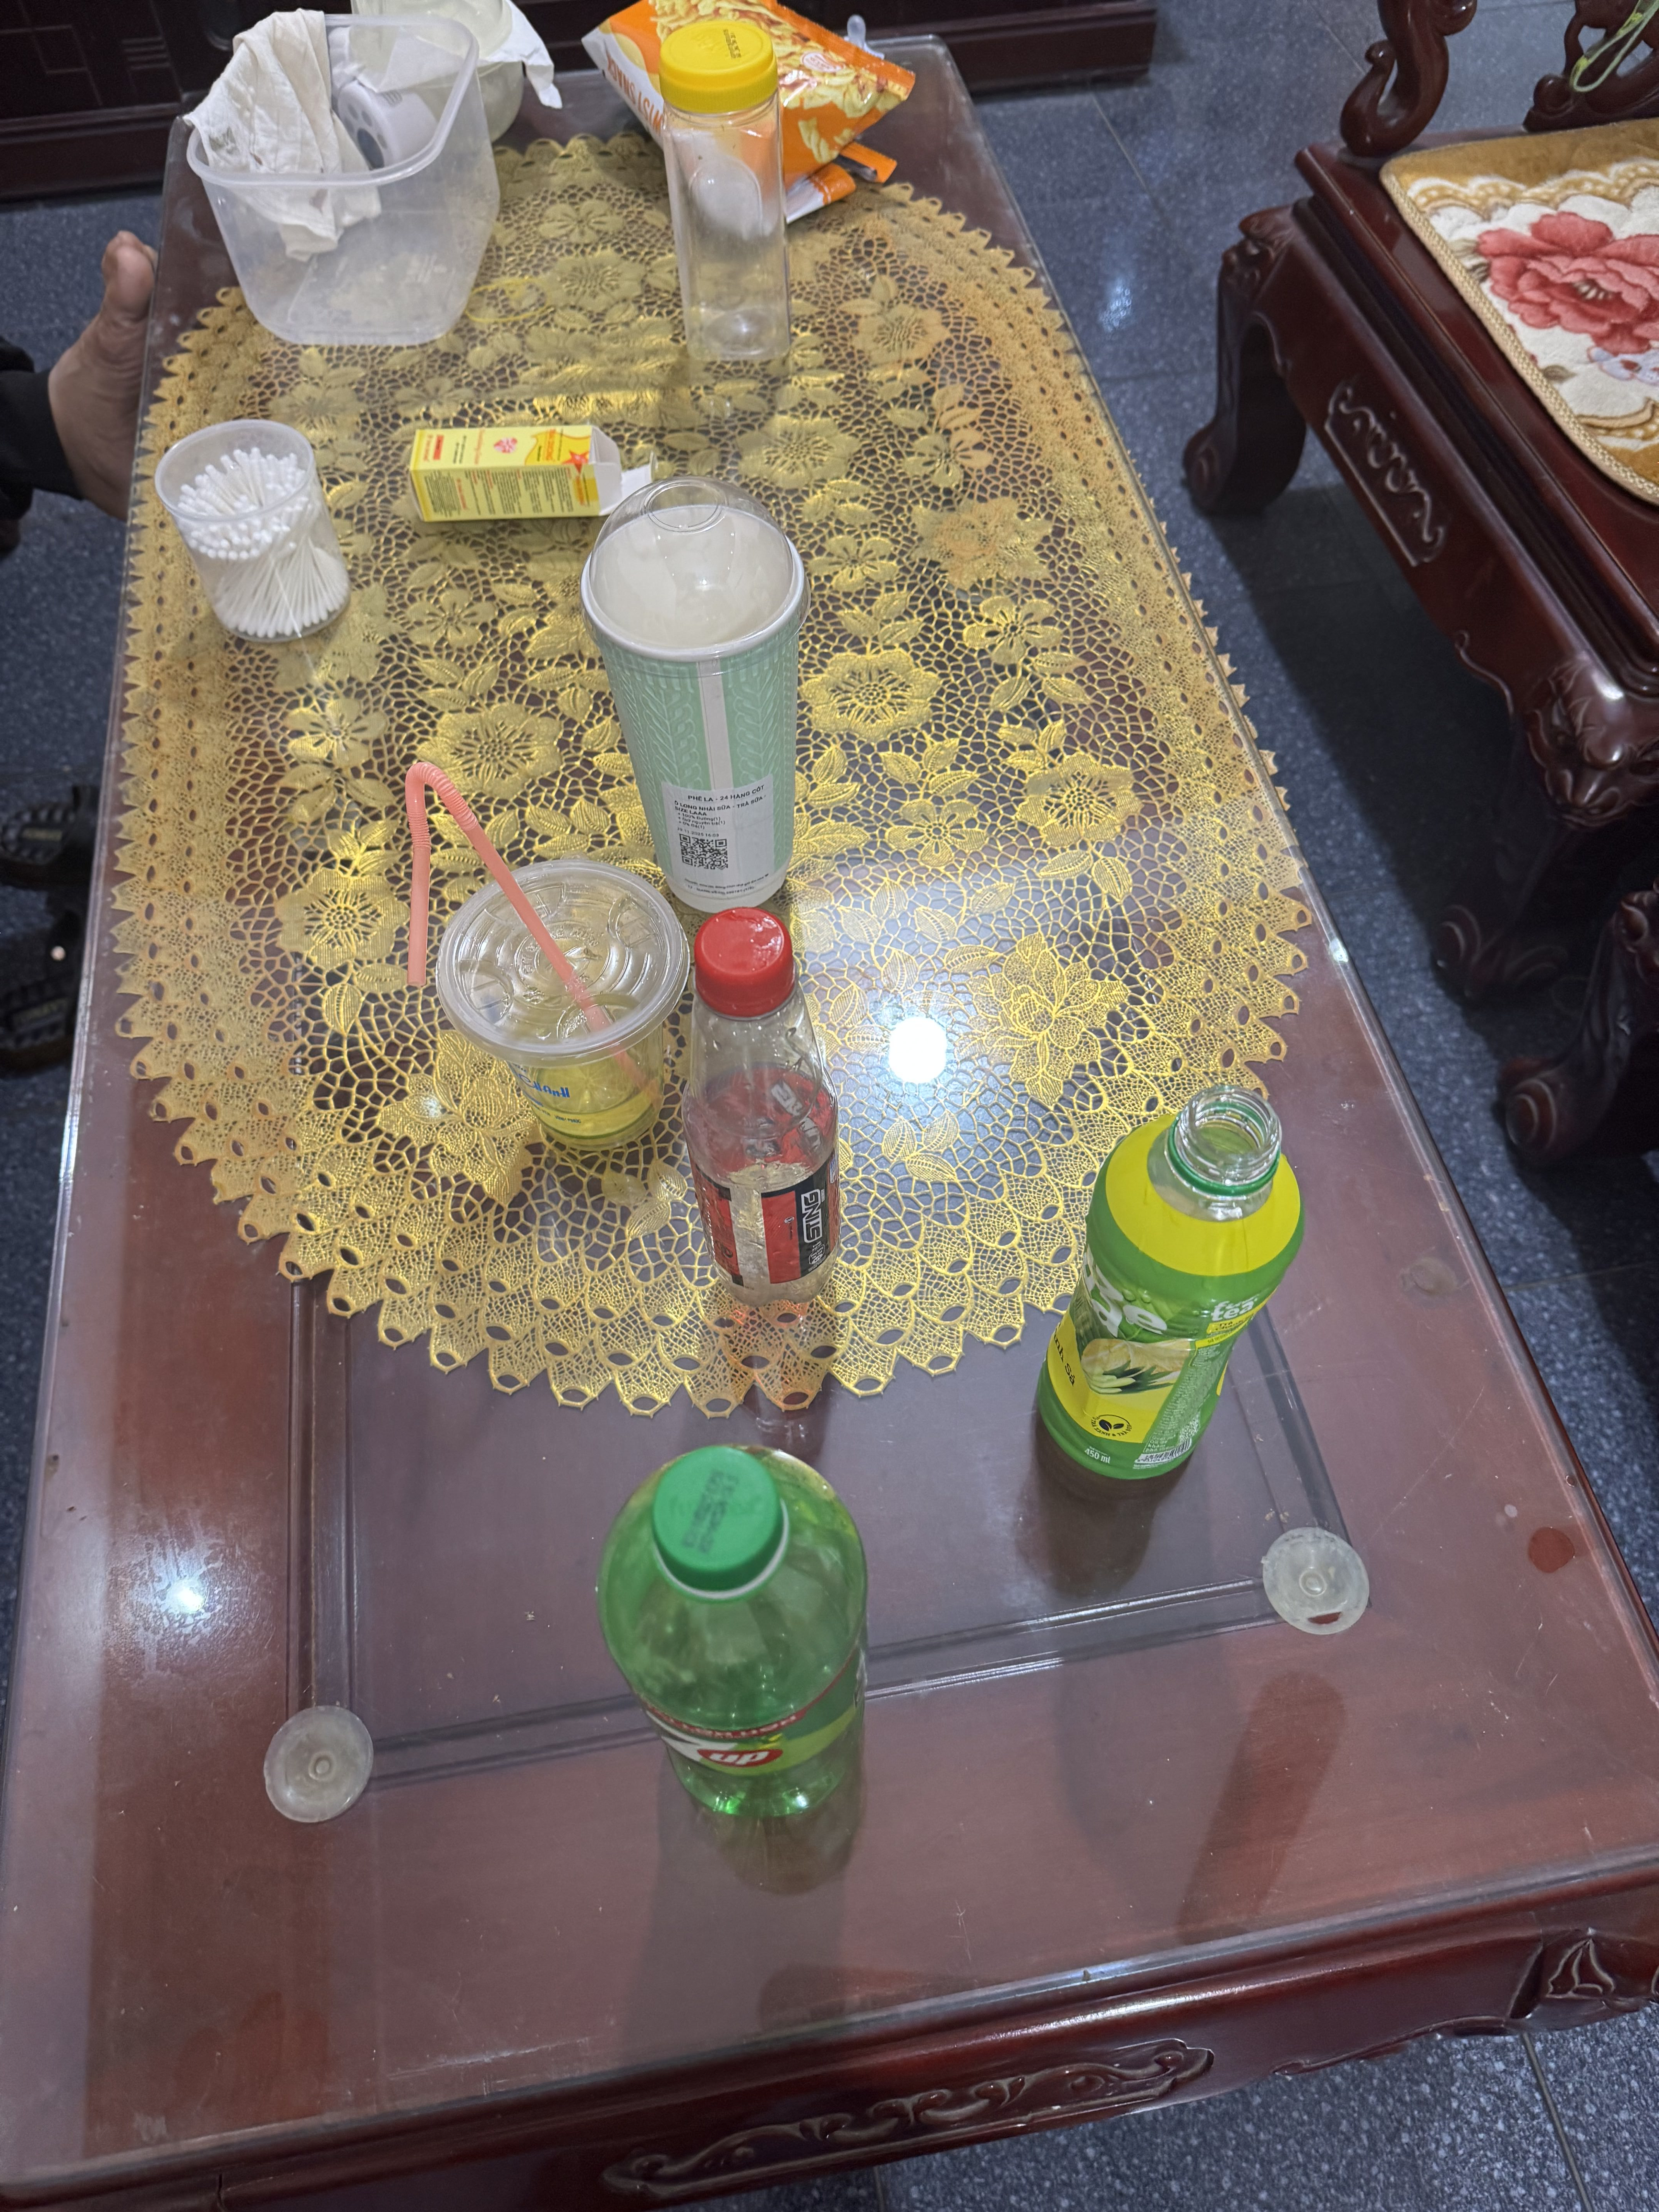bottle: (519, 1406, 1002, 1902), (999, 1075, 1358, 1533), (617, 900, 924, 1345)
cup: (570, 442, 887, 927), (392, 841, 721, 1170)
